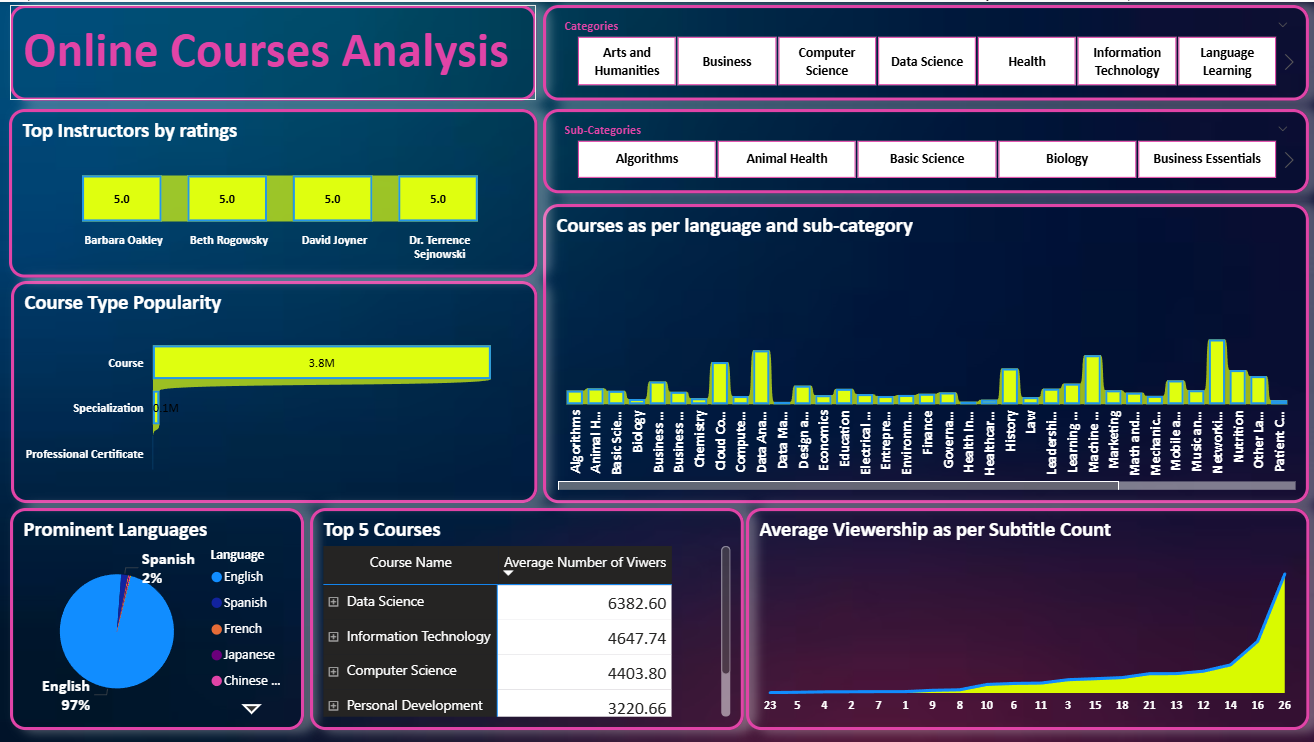

The dashboard page shown, as its layout file describes it:
{"tool":"powerbi","page":{"name":"Page 1","canvas":[1280,720],"ordinal":0},"visuals":[{"type":"textbox","box":[10.4,2.6,512.3,93.2],"z":0},{"type":"slicer","fields":{"Values":["Online_Courses.Category"]},"box":[529.1,2.9,745,93.4],"z":1000},{"type":"barChart","title":"Course Type Popularity","fields":{"Category":["Online_Courses.Course Type"],"Y":["Sum(Online_Courses.Course_id)"]},"box":[11.7,271.4,511.6,215.9],"z":2000},{"type":"columnChart","title":"Courses as per language and sub-category","fields":{"Category":["Online_Courses.Sub-Category","Online_Courses.Language"],"Y":["Avg(Online_Courses.Number of viewers)"]},"box":[529.1,196.5,745,290.8],"z":3000},{"type":"pieChart","title":"Prominent Languages","fields":{"Category":["Online_Courses.Language"],"Y":["CountNonNull(Online_Courses.Course Type)"]},"box":[10.7,492.2,286,215.9],"z":4000},{"type":"pivotTable","title":"Top 5 Courses ","fields":{"Rows":["Online_Courses.Category","Online_Courses.Language"],"Values":["Avg(Online_Courses.Number of viewers)"]},"box":[302.5,492.2,422.1,215.9],"z":5000},{"type":"areaChart","title":"Average Viewership as per Subtitle Count","fields":{"Category":["Online_Courses.sub_language_count"],"Y":["Avg(Online_Courses.Number of viewers)"]},"box":[726.6,492.2,547.6,215.9],"z":5001},{"type":"columnChart","title":"Top Instructors by ratings","fields":{"Category":["Teachers.Instructors"],"Y":["Teachers.Instructor_rating"]},"box":[9.7,104.1,513.6,164.4],"z":5002},{"type":"slicer","fields":{"Values":["Teachers.Sub-Category"]},"box":[529.1,104.1,745,81.7],"z":5003}]}

Visuals, with their boxes in screenshot pixels (x1, y1, x2, y2), scaled from the page's 1280x720 canvas onto the 1314x742 screenshot:
textbox: <region>11, 3, 537, 99</region>
slicer - Online_Courses.Category: <region>543, 3, 1308, 99</region>
"Course Type Popularity" barChart: <region>12, 280, 537, 502</region>
"Courses as per language and sub-category" columnChart: <region>543, 203, 1308, 502</region>
"Prominent Languages" pieChart: <region>11, 507, 305, 730</region>
"Top 5 Courses " pivotTable: <region>311, 507, 744, 730</region>
"Average Viewership as per Subtitle Count" areaChart: <region>746, 507, 1308, 730</region>
"Top Instructors by ratings" columnChart: <region>10, 107, 537, 277</region>
slicer - Teachers.Sub-Category: <region>543, 107, 1308, 191</region>
